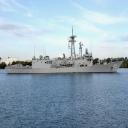Fragata: (5, 24, 124, 76)
